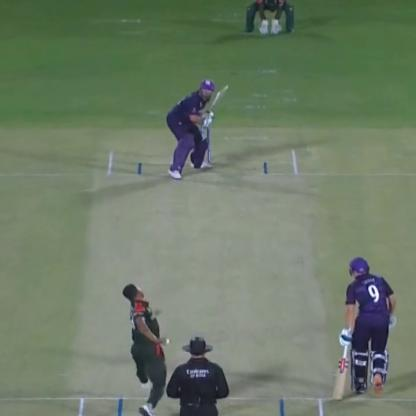ball: (159, 336, 173, 348)
bat: (206, 78, 232, 121)
pitch: (72, 142, 342, 415)
